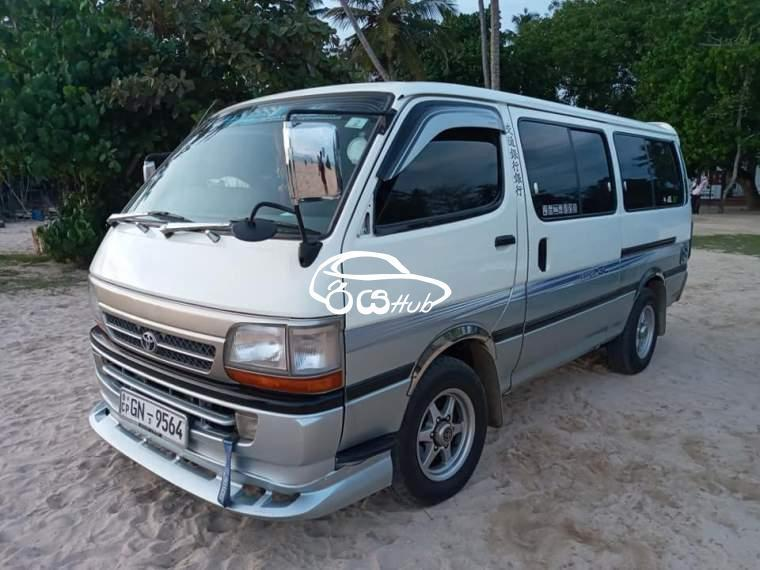car: (75, 67, 694, 512)
